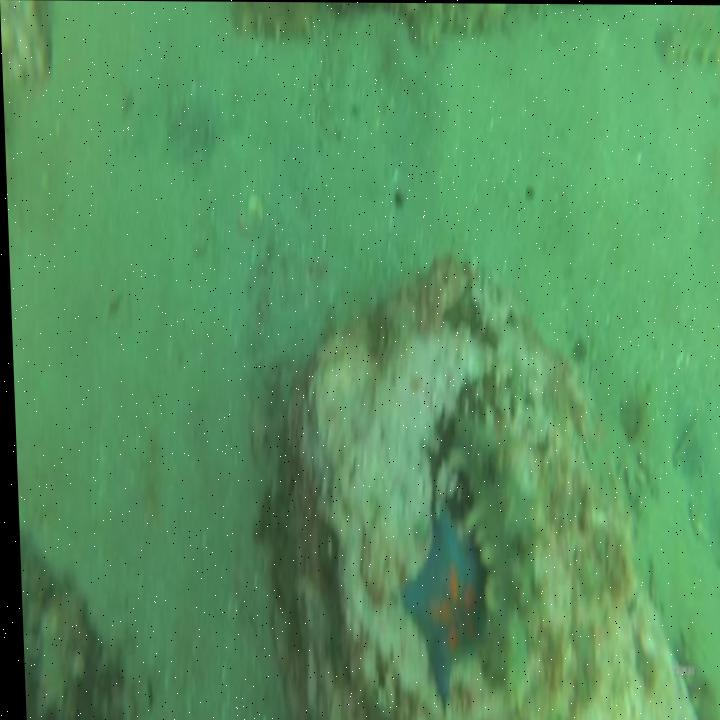holothurian: (440, 404, 541, 696)
starfish: (395, 489, 487, 705)
